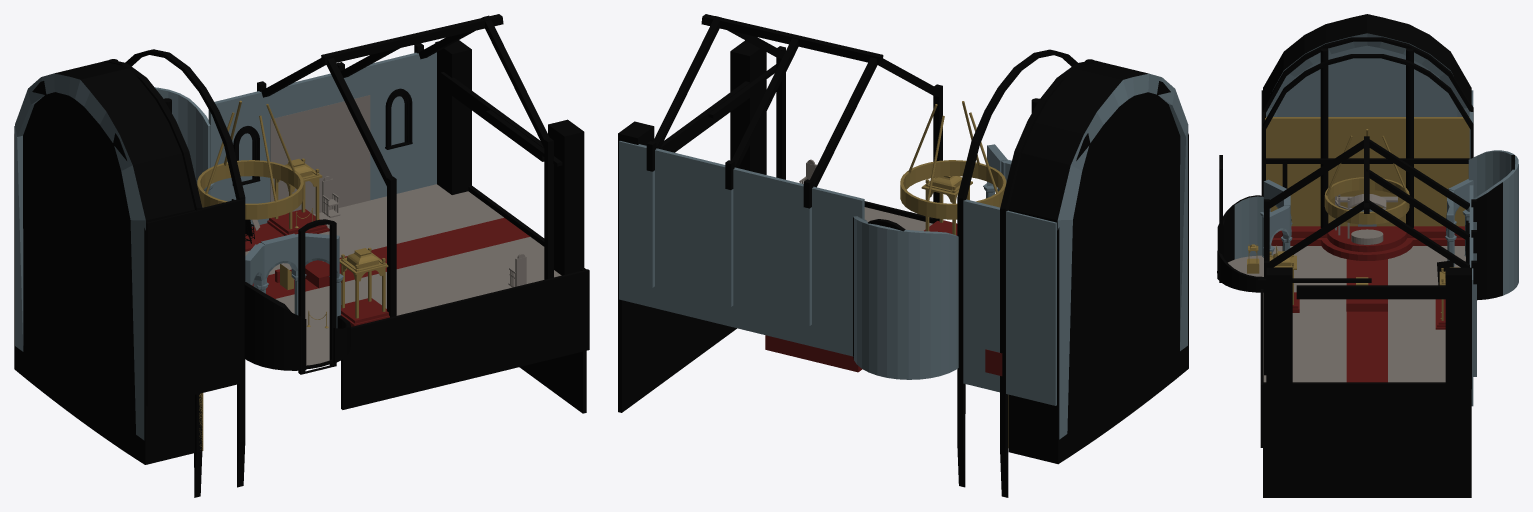
The model's file is EnvironmentTest.fbx.
3 renders of one model, left to right at view 1: azimuth 30°, elevation 25°; view 2: azimuth 150°, elevation 25°; view 3: azimuth 270°, elevation 25°, orthographic. The views are drawn at different scales.
Visible parts, largest first — view 1: Circle.012; view 2: Circle.012; view 3: Circle.012.
Boxes of the visible parts, <box> form: Circle.012: <box>14,14,589,497</box>; Circle.012: <box>618,14,1188,497</box>; Circle.012: <box>1217,14,1518,497</box>.
Bounding box in the file's own units: 3511 × 2934 × 2565.
